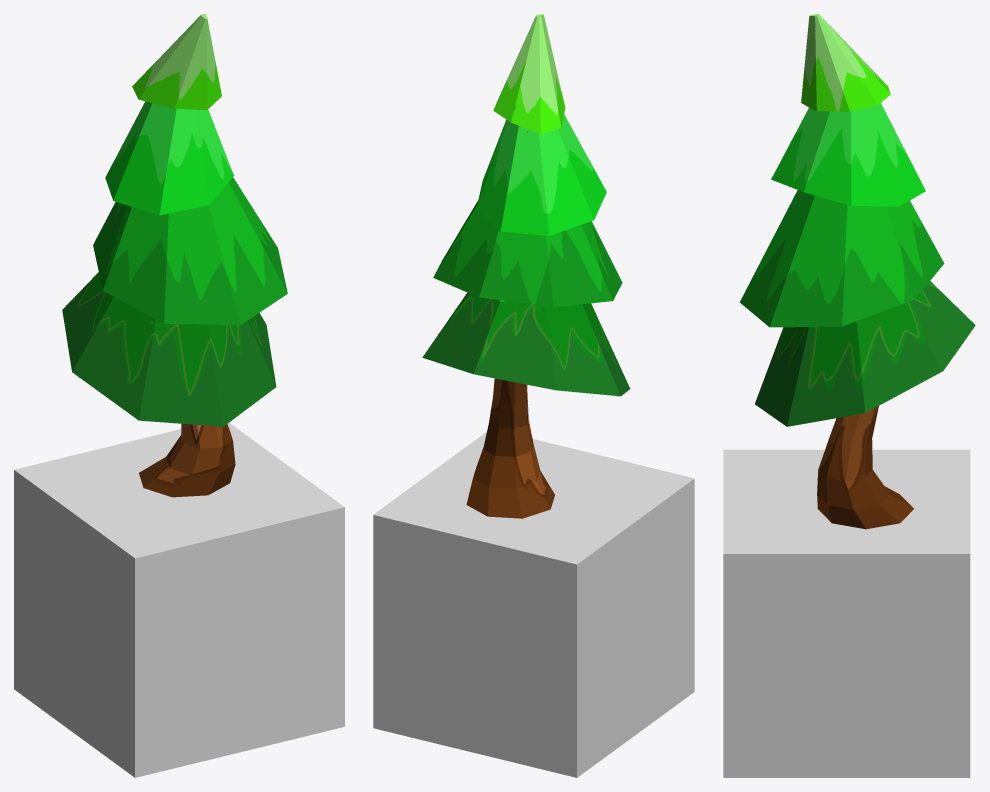
The model's file is tree1.fbx.
3 renders of one model, left to right at view 1: azimuth 30°, elevation 25°; view 2: azimuth 150°, elevation 25°; view 3: azimuth 270°, elevation 25°, orthographic. The views are drawn at different scales.
Visible parts, largest first — view 1: Cube, Cylinder; view 2: Cube, Cylinder; view 3: Cube, Cylinder.
Part boxes in pixels (bbox=[...]): Cube: bbox=[14, 422, 344, 777]; Cylinder: bbox=[62, 14, 287, 497]; Cube: bbox=[373, 432, 694, 777]; Cylinder: bbox=[422, 14, 630, 518]; Cube: bbox=[723, 449, 970, 777]; Cylinder: bbox=[739, 14, 975, 529].
Bounding box in the file's own units: 200 × 639 × 204.
